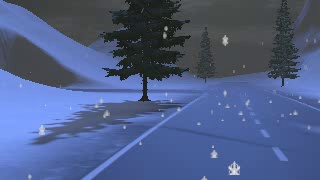Lane: (81, 80, 319, 179)
